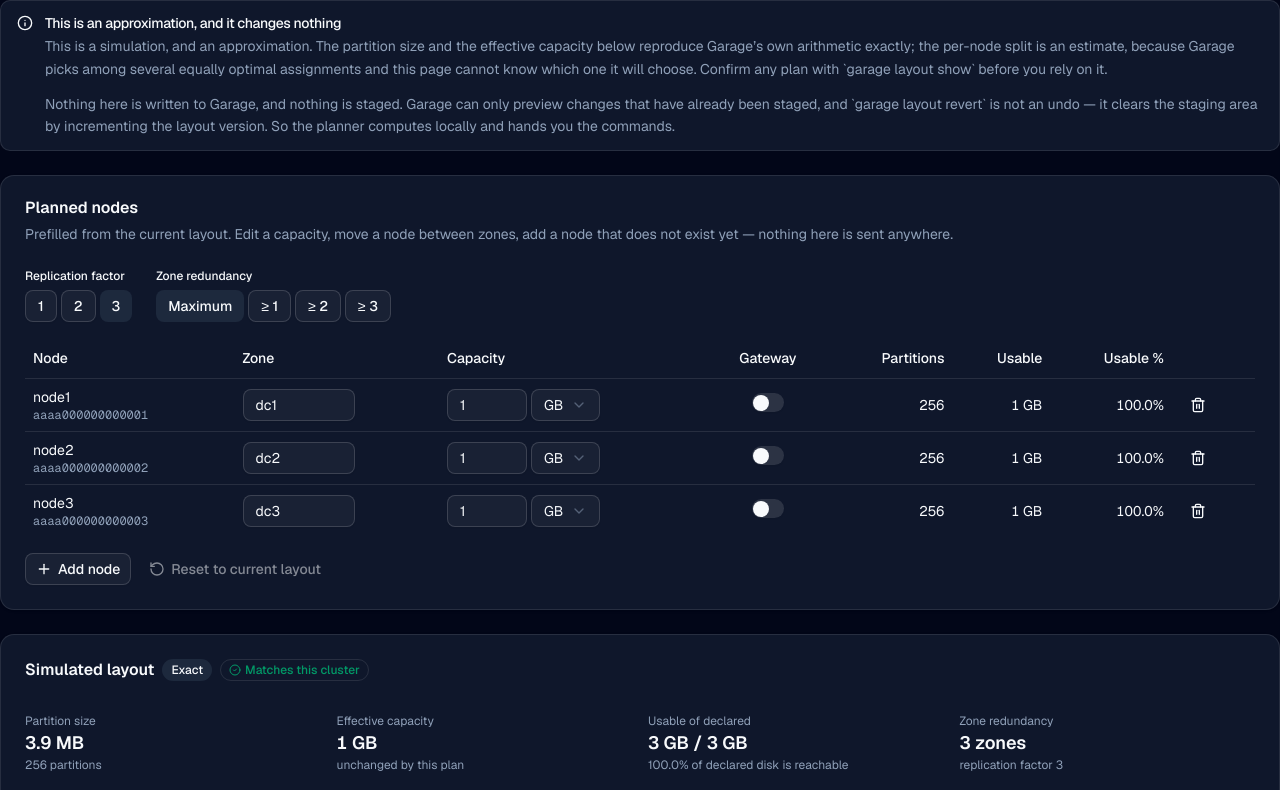
cluster layout planner › offers the commands for the plan rather than running them
Expected: the text "Planned nodes" is shown, [25, 197, 138, 218]
Replace the text in the field named "Capacity for node1" with "2" at (487, 404), box [447, 388, 527, 420]
(page scrolled)
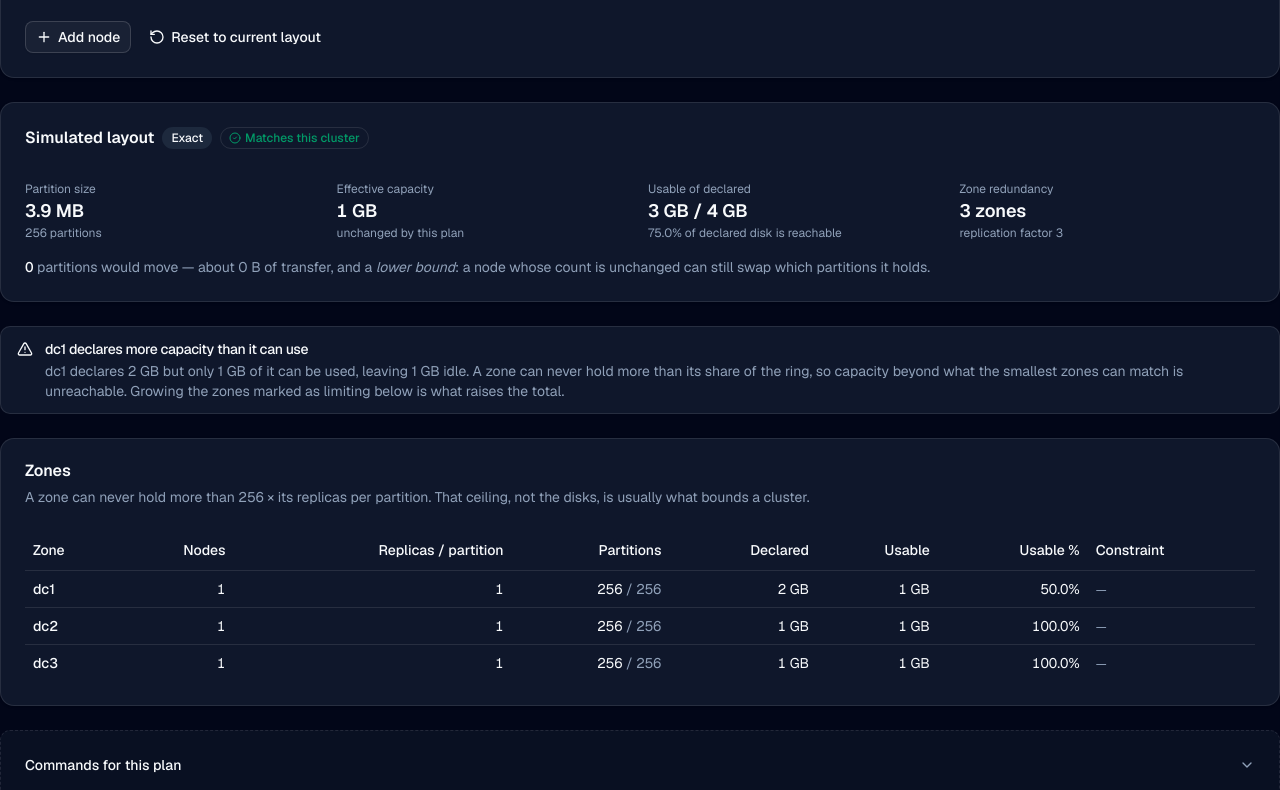
Expected: the button "Commands for this plan" is shown, [25, 755, 1255, 775]
